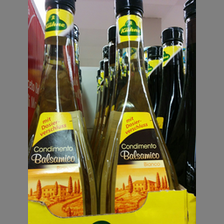vinegar: (101, 1, 182, 214), (28, 1, 105, 218)
